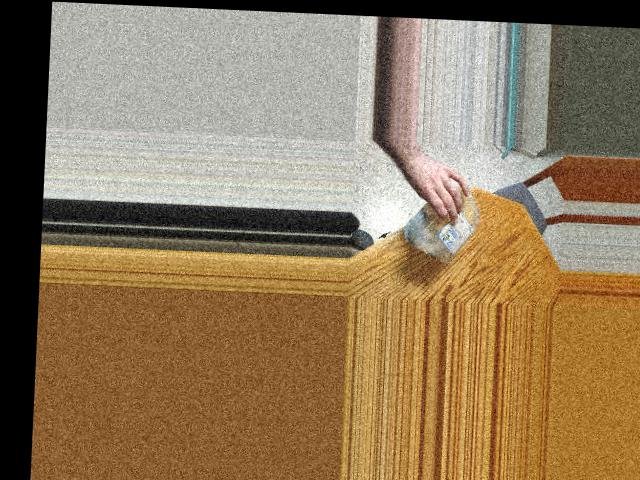cheese: (406, 168, 485, 266)
